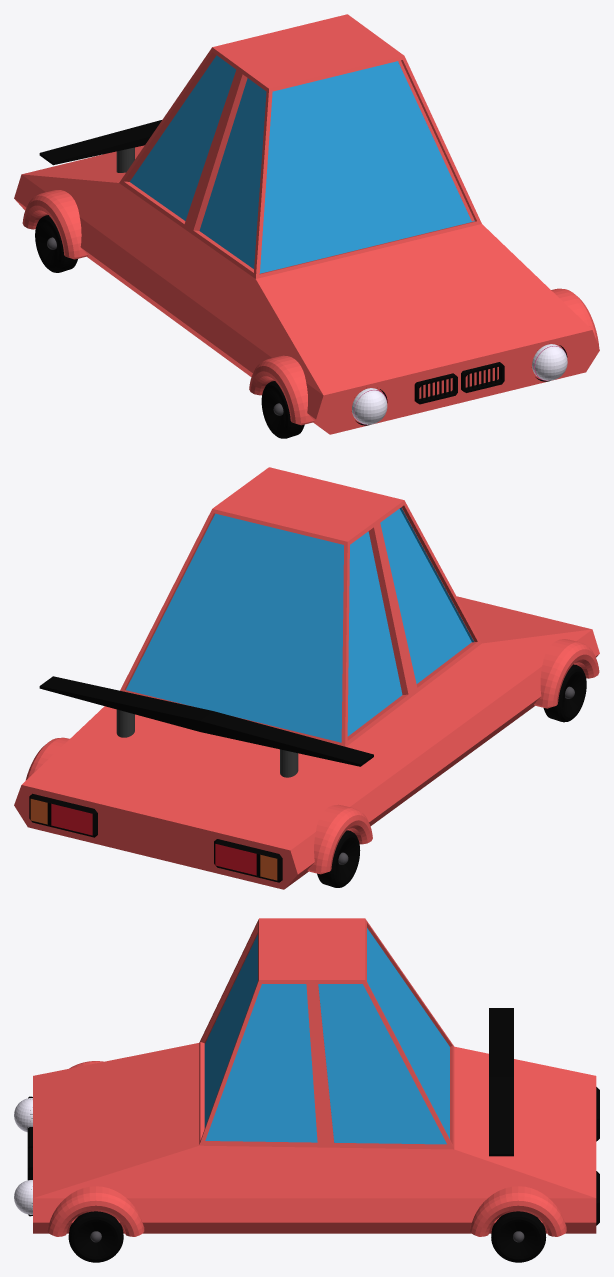
Rendered from Car.glb.
3 views of the same model, one above another, from view 1: azimuth 30°, elevation 25°; view 2: azimuth 150°, elevation 25°; view 3: azimuth 270°, elevation 25° (orthographic). The views are drawn at different scales.
Parts seen in each view (by area): view 1: Body, Mudguard, Spoiler, Light.001, Tyre.002, Tyre.001, shell, shellBar; view 2: Body, Spoiler, Mudguard, BackLight, Tyre.002, Tyre.001, spoiler_2; view 3: Body, Mudguard, Spoiler, Tyre.001, Tyre.002, Light.001.
Part boxes in pixels (x1,y1,x2,y2): Body: [14, 14, 599, 434]; Mudguard: [22, 190, 599, 425]; Spoiler: [39, 120, 161, 165]; Light.001: [352, 344, 567, 424]; Tyre.002: [261, 381, 304, 438]; Tyre.001: [35, 215, 77, 272]; shell: [414, 362, 504, 404]; shellBar: [421, 367, 497, 400]; Body: [14, 467, 599, 889]; Spoiler: [39, 676, 373, 766]; Mudguard: [25, 639, 599, 874]; BackLight: [29, 793, 282, 882]; Tyre.002: [543, 664, 586, 722]; Tyre.001: [317, 830, 360, 887]; spoiler_2: [116, 709, 298, 777]; Body: [33, 918, 596, 1233]; Mudguard: [47, 1061, 566, 1236]; Spoiler: [489, 1008, 513, 1156]; Tyre.001: [491, 1211, 546, 1262]; Tyre.002: [68, 1211, 123, 1262]; Light.001: [14, 1098, 32, 1214].
Size of the model in its own units: 8.03 by 6.34 by 13.62.
